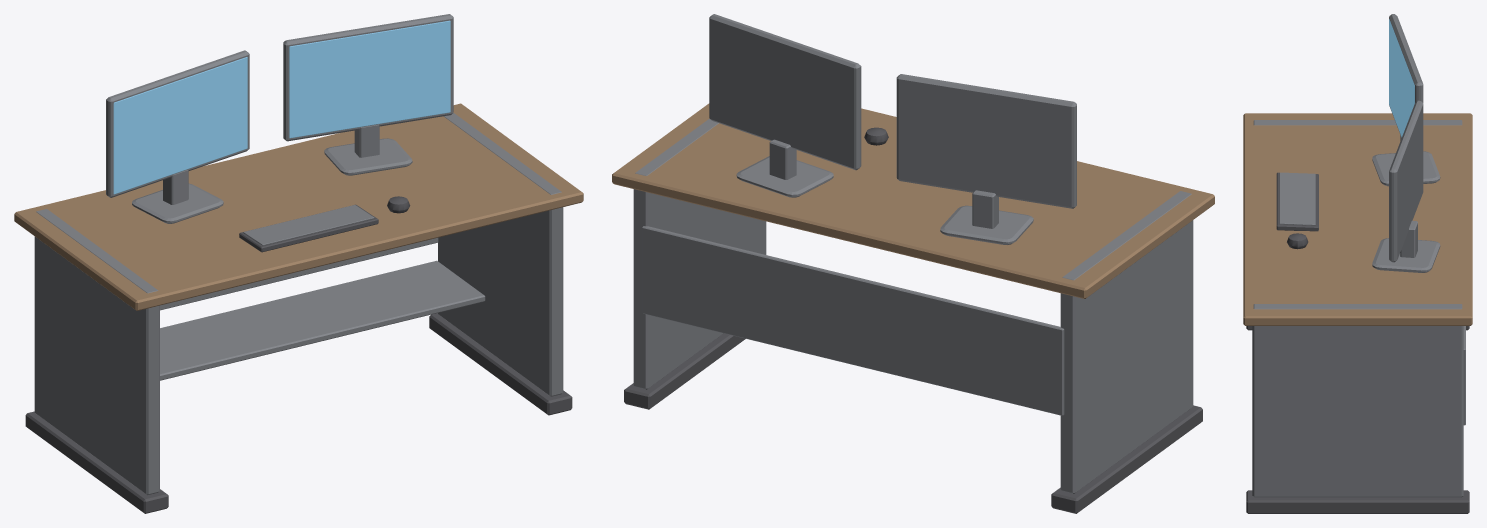
File: music-recording-studio-and-instruments-studio-desk-wit-ebc3f6db__33808.glb
The picture shows the model from 3 angles, left to right: view 1: azimuth 30°, elevation 25°; view 2: azimuth 150°, elevation 25°; view 3: azimuth 270°, elevation 25°; orthographic projection. The views are drawn at different scales.
Visible parts, largest first — view 1: studio-desk-with-screens; view 2: studio-desk-with-screens; view 3: studio-desk-with-screens.
Boxes of the visible parts, x1,y1,x2,y2 form: studio-desk-with-screens: (14, 14, 583, 513); studio-desk-with-screens: (612, 14, 1214, 513); studio-desk-with-screens: (1243, 14, 1472, 513).
Size of the model in its own units: 1.6 by 1.19 by 0.76.
